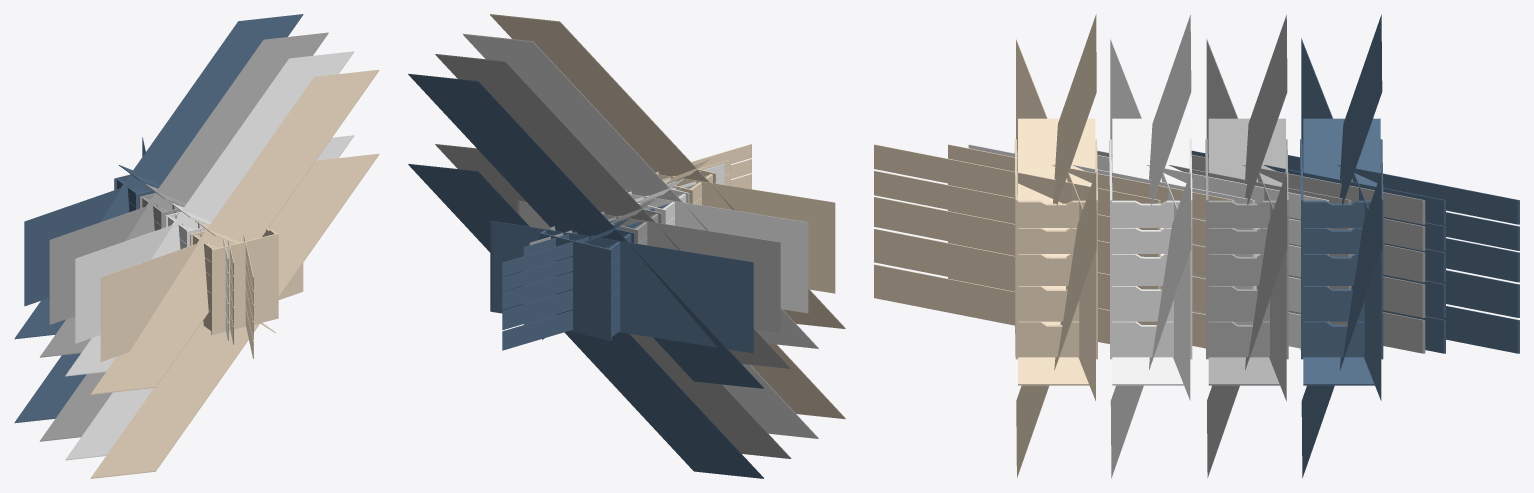
Rendered from Alex Drawers Unit.fbx.
3 views of the same model, side by side, from view 1: azimuth 30°, elevation 25°; view 2: azimuth 150°, elevation 25°; view 3: azimuth 270°, elevation 25° (orthographic). The views are drawn at different scales.
Visible parts, largest first — view 1: Cube.072, Cube.071, Cube.021, Cube.096, Cube.025, Cube.070, Cube.069, Cube.027, Cube.094, Cube.023, Cube.024, Cube.026 (+1 smaller); view 2: Cube.094, Cube.096, Cube.095, Cube.025, Cube.021, Cube.072, Cube.026, Cube.027, Cube.023, Cube.070, Case.003, Cube.024 (+7 smaller); view 3: Cube.059, Cube.055, Cube.067, Cube.051, Cube.071, Cube.026, Cube.024, Cube.095, Cube.063, Cube.066, Cube.094, Cube.027 (+57 smaller).
Boxes of the visible parts, left/top/right/bottom form: Cube.072: left=90, top=69, right=379, bottom=394; Cube.071: left=90, top=153, right=379, bottom=478; Cube.021: left=39, top=32, right=328, bottom=357; Cube.096: left=14, top=14, right=303, bottom=339; Cube.025: left=65, top=51, right=354, bottom=376; Cube.070: left=100, top=243, right=303, bottom=361; Cube.069: left=211, top=233, right=278, bottom=334; Cube.027: left=49, top=206, right=147, bottom=324; Cube.094: left=24, top=188, right=121, bottom=306; Cube.023: left=75, top=225, right=172, bottom=343; Cube.024: left=65, top=135, right=354, bottom=460; Cube.026: left=39, top=372, right=112, bottom=441; Cube.094: left=490, top=220, right=753, bottom=353; Cube.096: left=408, top=73, right=763, bottom=388; Cube.095: left=408, top=164, right=763, bottom=478; Cube.025: left=463, top=34, right=818, bottom=348; Cube.021: left=435, top=54, right=791, bottom=368; Cube.072: left=490, top=14, right=845, bottom=328; Cube.026: left=435, top=144, right=791, bottom=458; Cube.027: left=517, top=201, right=780, bottom=333; Cube.023: left=629, top=194, right=808, bottom=313; Cube.070: left=657, top=174, right=835, bottom=293; Case.003: left=539, top=232, right=611, bottom=340; Cube.024: left=723, top=364, right=818, bottom=438; Cube.059: left=874, top=229, right=1160, bottom=308; Cube.055: left=874, top=264, right=1156, bottom=343; Cube.067: left=874, top=144, right=1160, bottom=214; Cube.051: left=874, top=197, right=1160, bottom=272; Cube.071: left=1016, top=172, right=1096, bottom=477; Cube.026: left=1207, top=172, right=1287, bottom=477; Cube.024: left=1110, top=172, right=1191, bottom=478; Cube.095: left=1301, top=172, right=1382, bottom=478; Cube.063: left=874, top=171, right=1160, bottom=241; Cube.066: left=1018, top=118, right=1095, bottom=229; Cube.094: left=1301, top=38, right=1381, bottom=400; Cube.027: left=1206, top=38, right=1286, bottom=401.
Bounding box in the file's own units: 1739 × 1796 × 1671.
